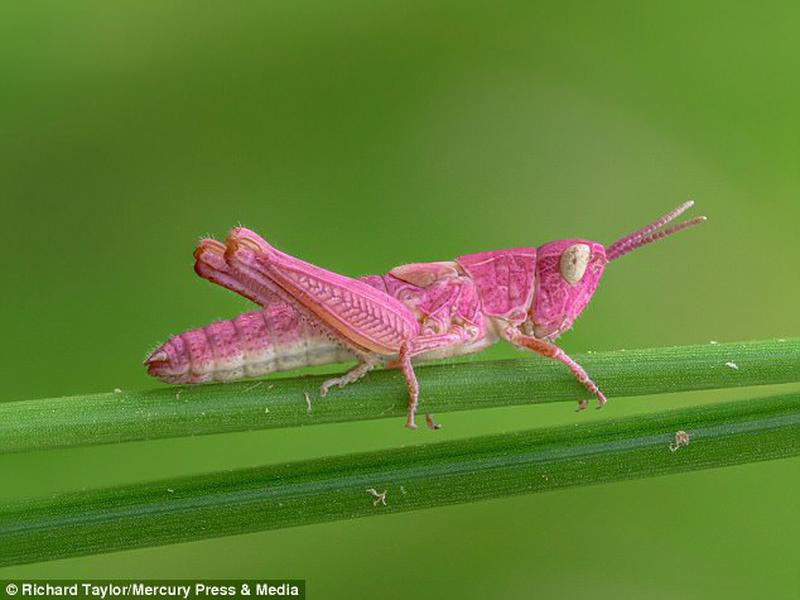Grasshopper: (139, 184, 704, 426)
